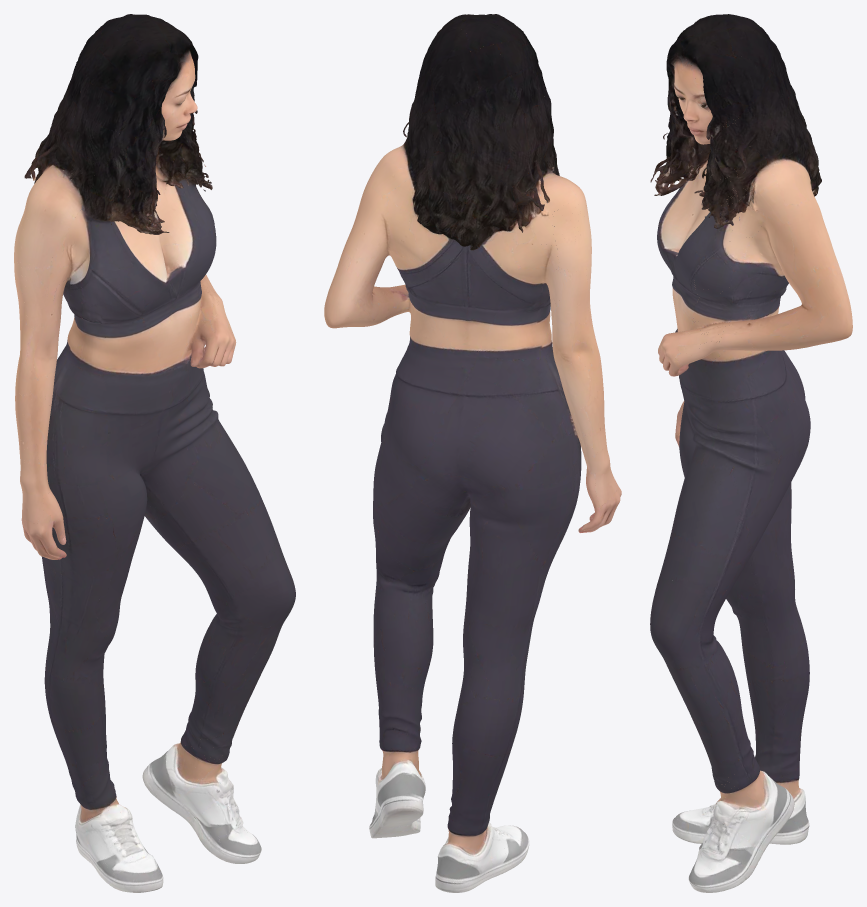
File: avatar.glb
3 views of the same model, side by side, from view 1: azimuth 30°, elevation 25°; view 2: azimuth 150°, elevation 25°; view 3: azimuth 270°, elevation 25° (orthographic). The views are drawn at different scales.
Visible parts, largest first — view 1: Object_5, Object_6, Object_7; view 2: Object_6, Object_7, Object_5; view 3: Object_6, Object_5, Object_7.
Part boxes in pixels (box(x1,y1,x2,y2)): Object_5: box(14, 18, 295, 892); Object_6: box(15, 14, 270, 889); Object_7: box(14, 14, 276, 875); Object_6: box(324, 14, 618, 892); Object_7: box(369, 19, 604, 876); Object_5: box(373, 14, 621, 876); Object_6: box(672, 14, 852, 892); Object_5: box(650, 15, 760, 892); Object_7: box(657, 14, 767, 892).
Size of the model in its own units: 0.5855 by 1.9 by 0.4233.
Materials: 1 (1 with a texture image).
